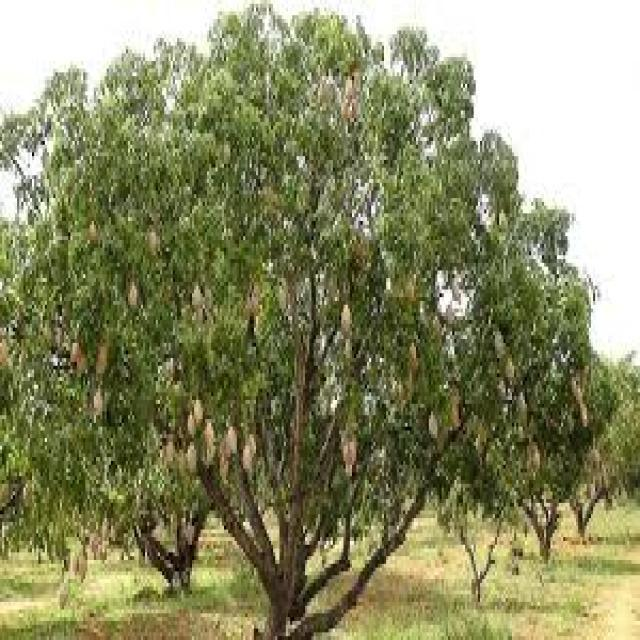Tree: (39, 25, 394, 630), (491, 257, 562, 570), (564, 333, 619, 557)
